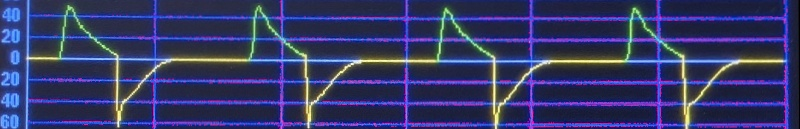normal_flow: (42, 0, 736, 129)
